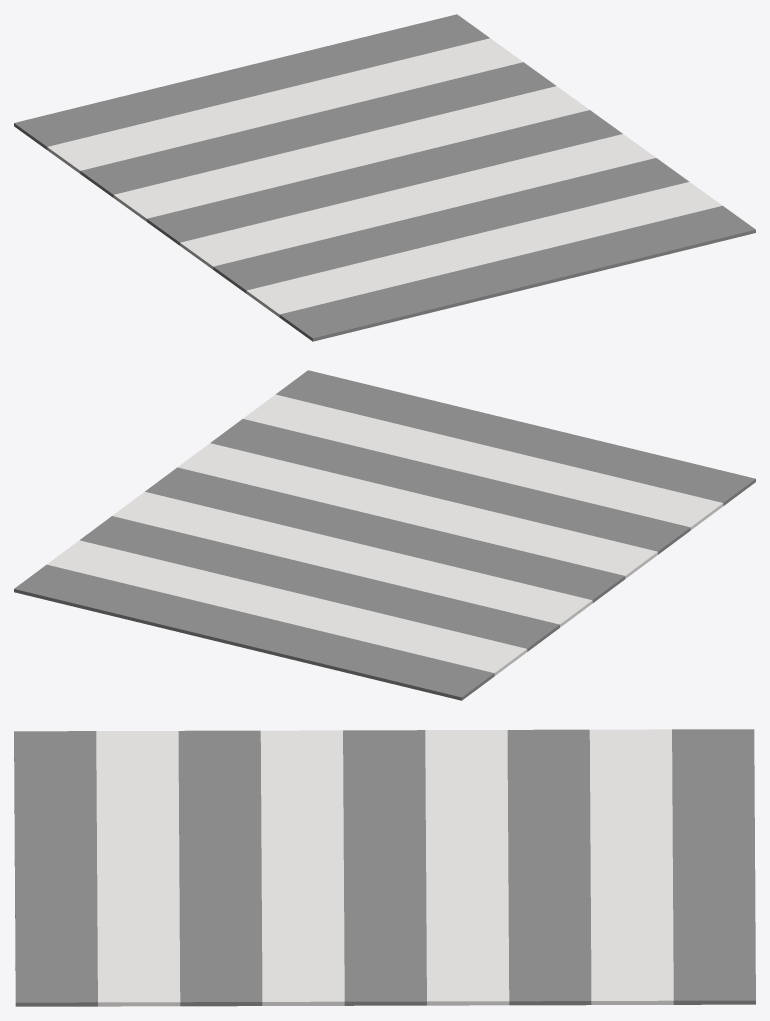
File: Carpet_3.fbx
3 renders of one model, top to bottom at view 1: azimuth 30°, elevation 25°; view 2: azimuth 150°, elevation 25°; view 3: azimuth 270°, elevation 25°, orthographic. The views are drawn at different scales.
Parts seen in each view (by area): view 1: Carpet_3; view 2: Carpet_3; view 3: Carpet_3.
Boxes of the visible parts, box(x1,y1,x2,y2) form: Carpet_3: box(14, 14, 755, 341); Carpet_3: box(14, 370, 755, 700); Carpet_3: box(14, 729, 755, 1006).
Bounding box in the file's own units: 295 × 338 × 2.07.
